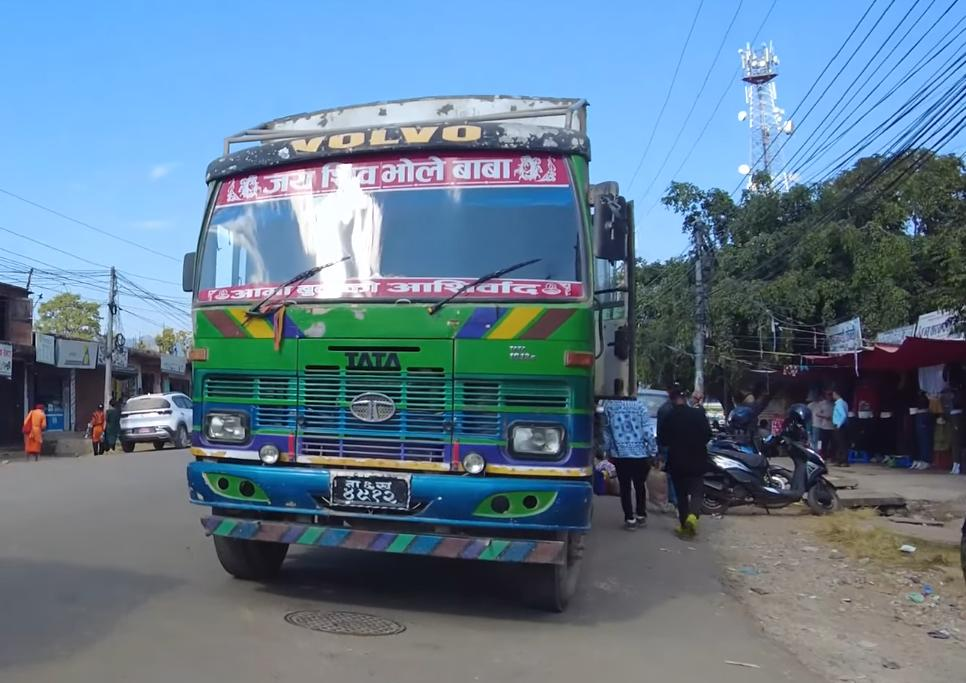car: (118, 391, 193, 452)
scooter: (690, 418, 848, 521)
truck: (181, 94, 636, 612)
